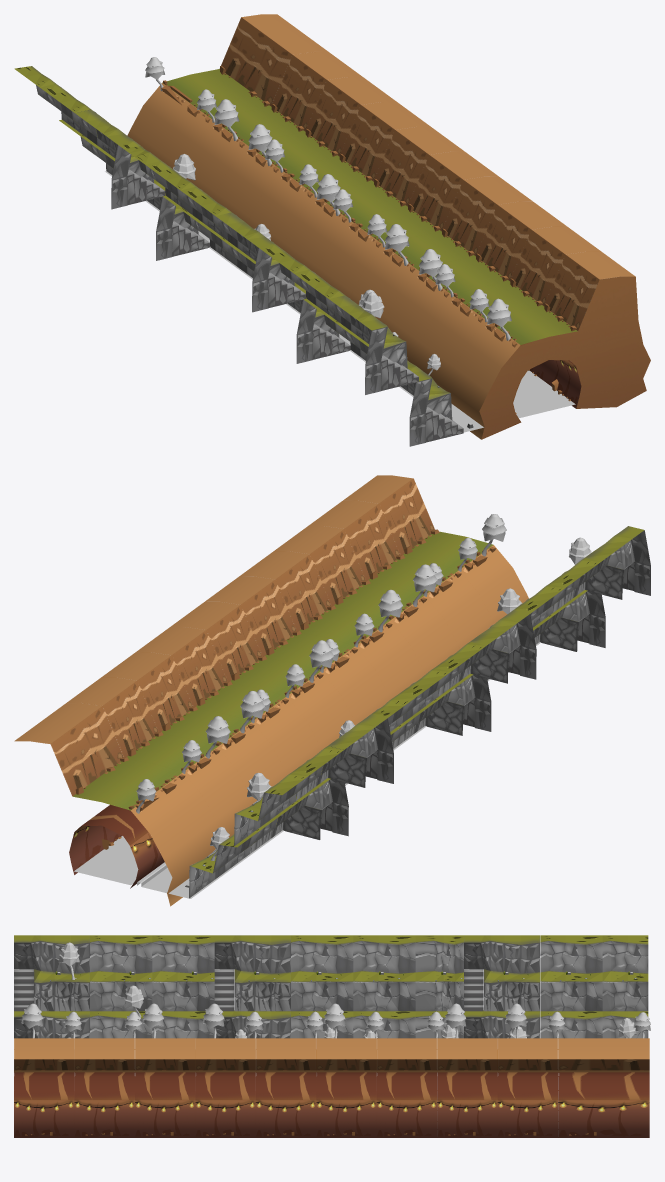
File: hamdai.fbx
3 views of the same model, one above another, from view 1: azimuth 30°, elevation 25°; view 2: azimuth 150°, elevation 25°; view 3: azimuth 270°, elevation 25° (orthographic). The views are drawn at different scales.
Parts seen in each view (by area): view 1: pCube336, polySurface110, pPlane86; view 2: pCube336, polySurface110, pPlane86; view 3: pCube336, polySurface110.
Part boxes in pixels (left/top/right/bottom): pCube336: left=127, top=14, right=650, bottom=439; polySurface110: left=14, top=66, right=483, bottom=446; pPlane86: left=513, top=370, right=575, bottom=418; pCube336: left=14, top=475, right=528, bottom=906; polySurface110: left=137, top=526, right=650, bottom=898; pPlane86: left=74, top=836, right=138, bottom=885; pCube336: left=14, top=1003, right=650, bottom=1137; polySurface110: left=14, top=935, right=648, bottom=1038.
Bounding box in the file's own units: 120 × 57.91 × 262.
